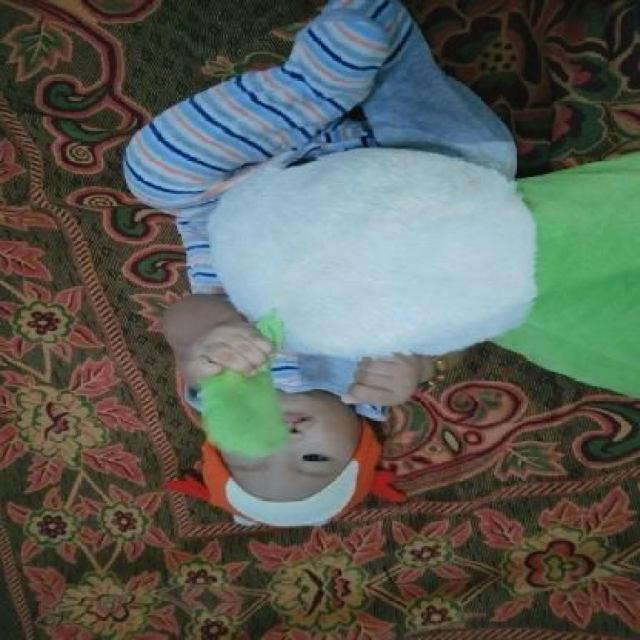baby: (120, 1, 536, 532)
